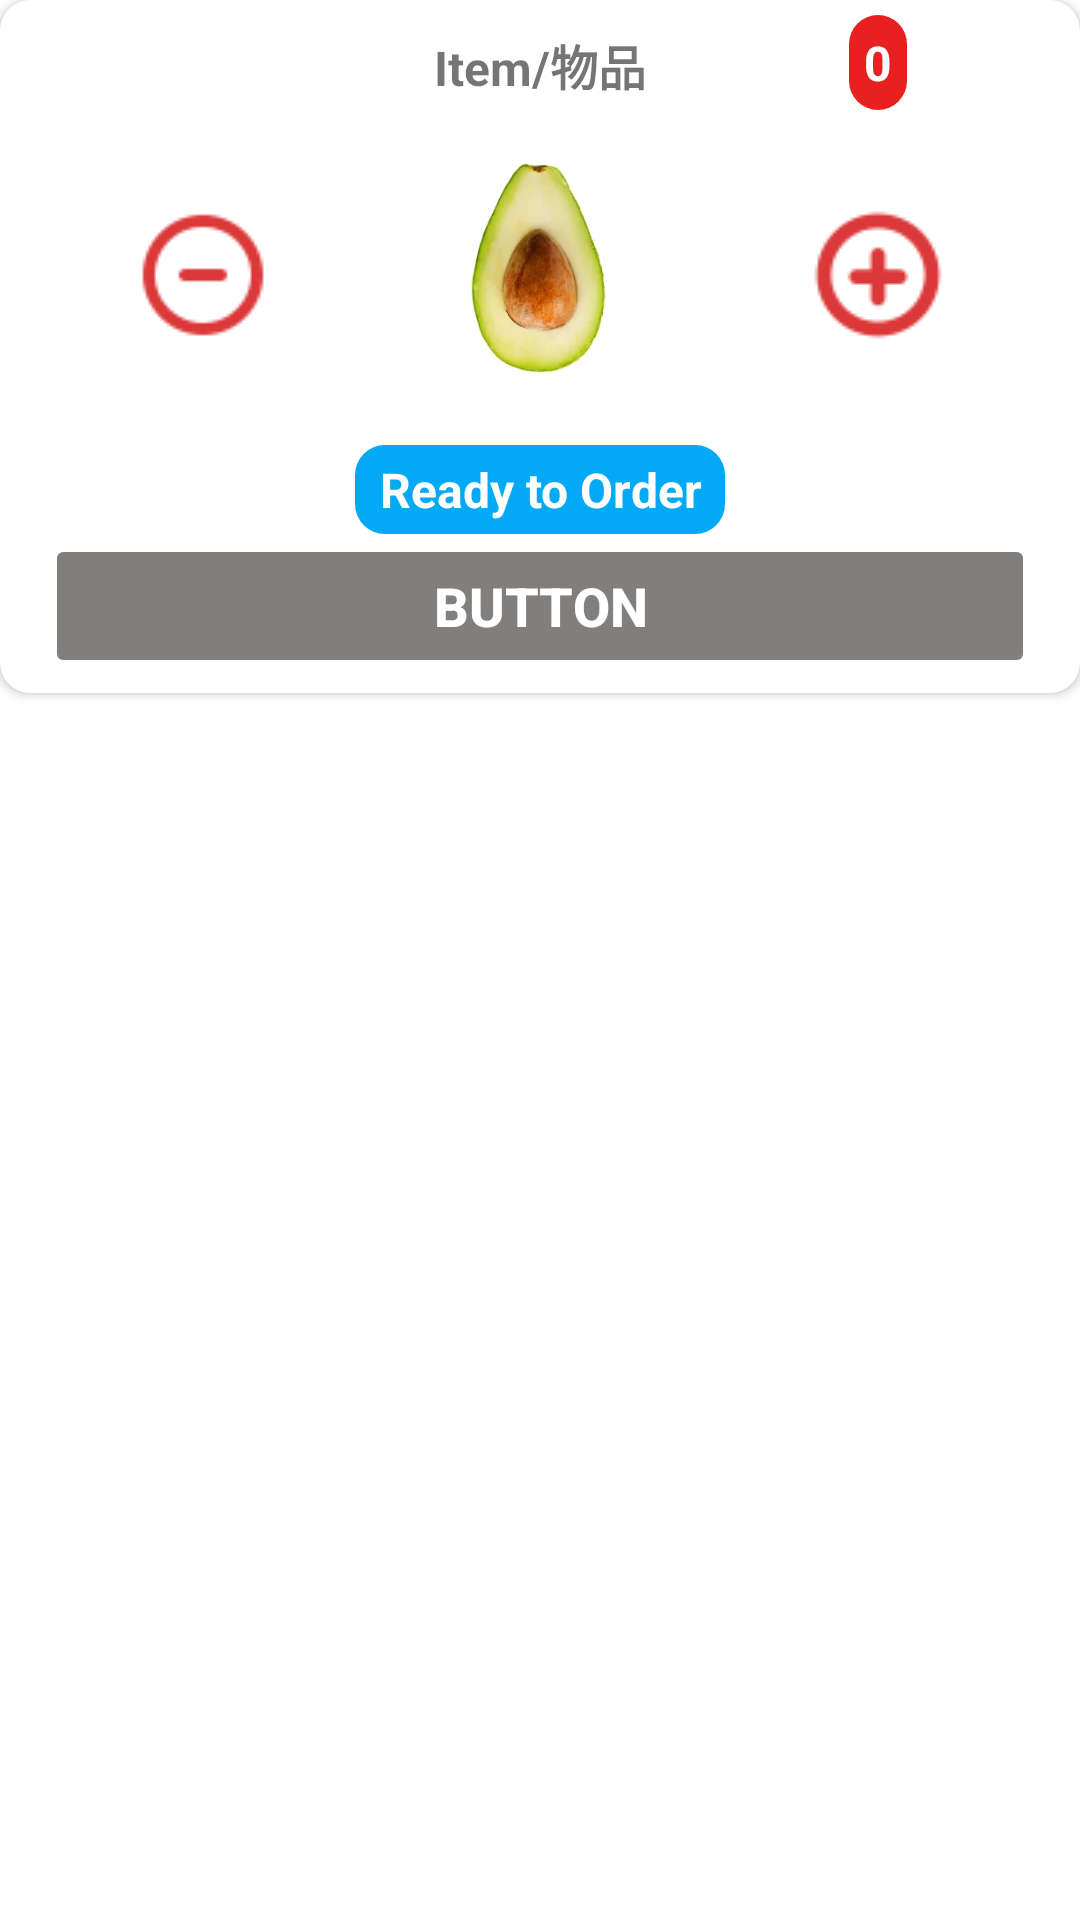

Icons on this 1080w x 1920h Android screen, each with its box as (x1, y1, x2, y2):
avo: (471, 164, 606, 373)
minus: (142, 214, 264, 336)
plus: (814, 211, 942, 339)
